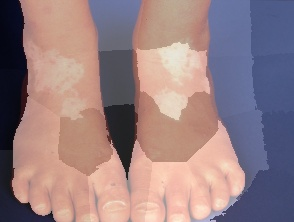vitiligo: (111, 5, 237, 133), (18, 18, 104, 135), (126, 151, 254, 222), (11, 159, 131, 222)
